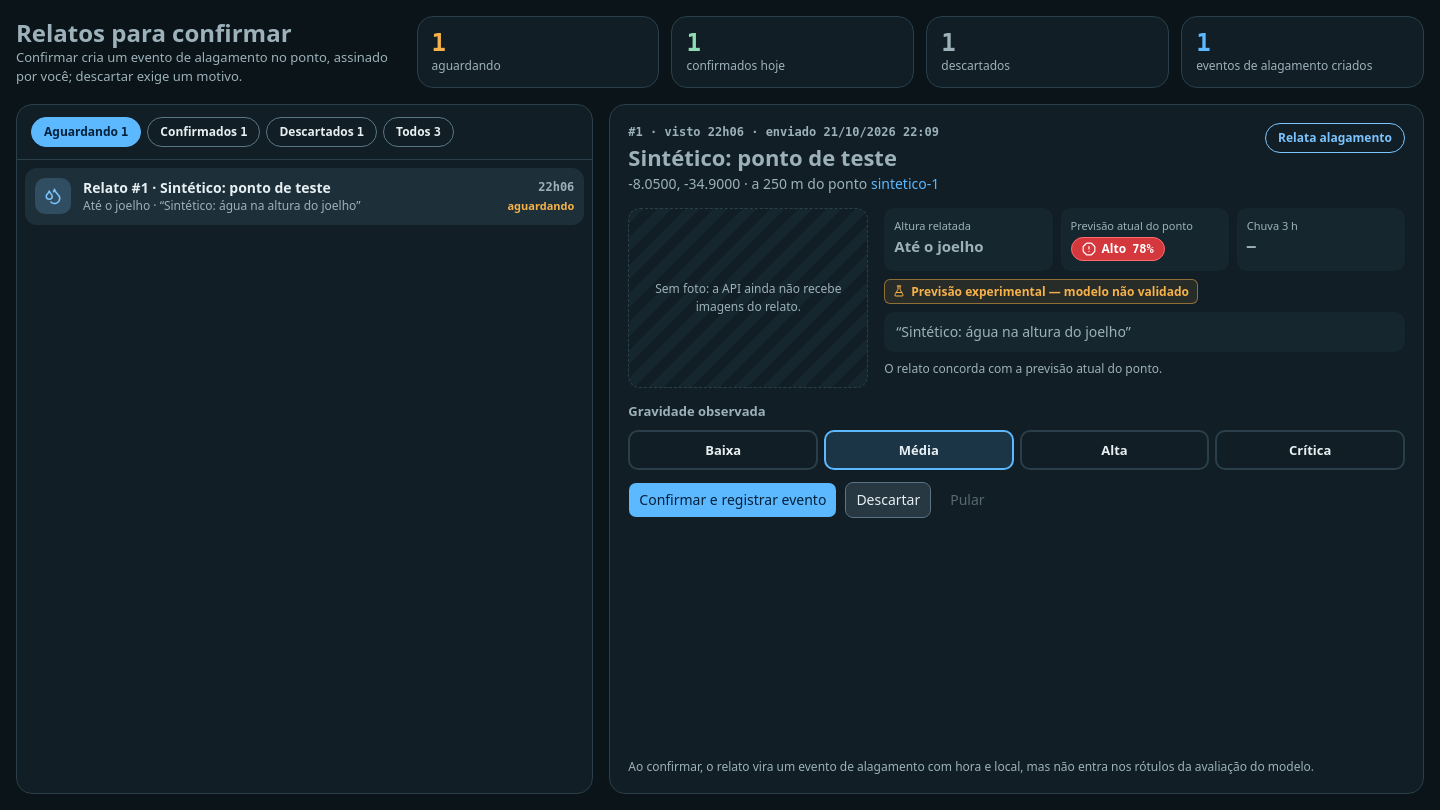
ReportsPage › confirmar: ponto sugerido e gravidade escolhida vão no PATCH; mostra aviso de sucesso
What coordinates should you click on to do the following:
click the radio button labelled "Alta"
I would click on:
 (1115, 450)
Its box is [1020,430,1209,470].
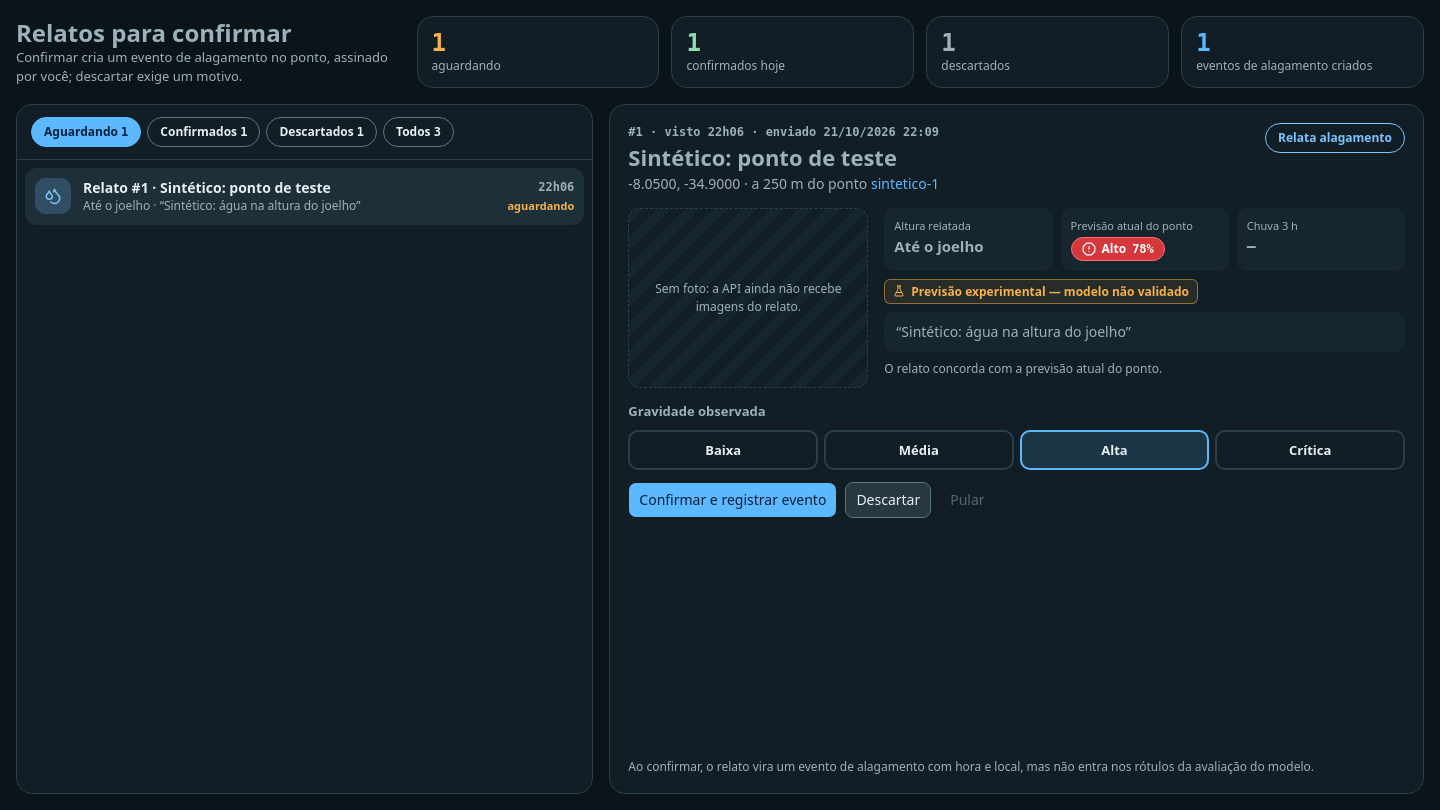
What coordinates should you click on to do the following:
click the button with aria-label "Confirmar relato 1"
I would click on:
 (733, 500)
Its box is [628,482,837,518].
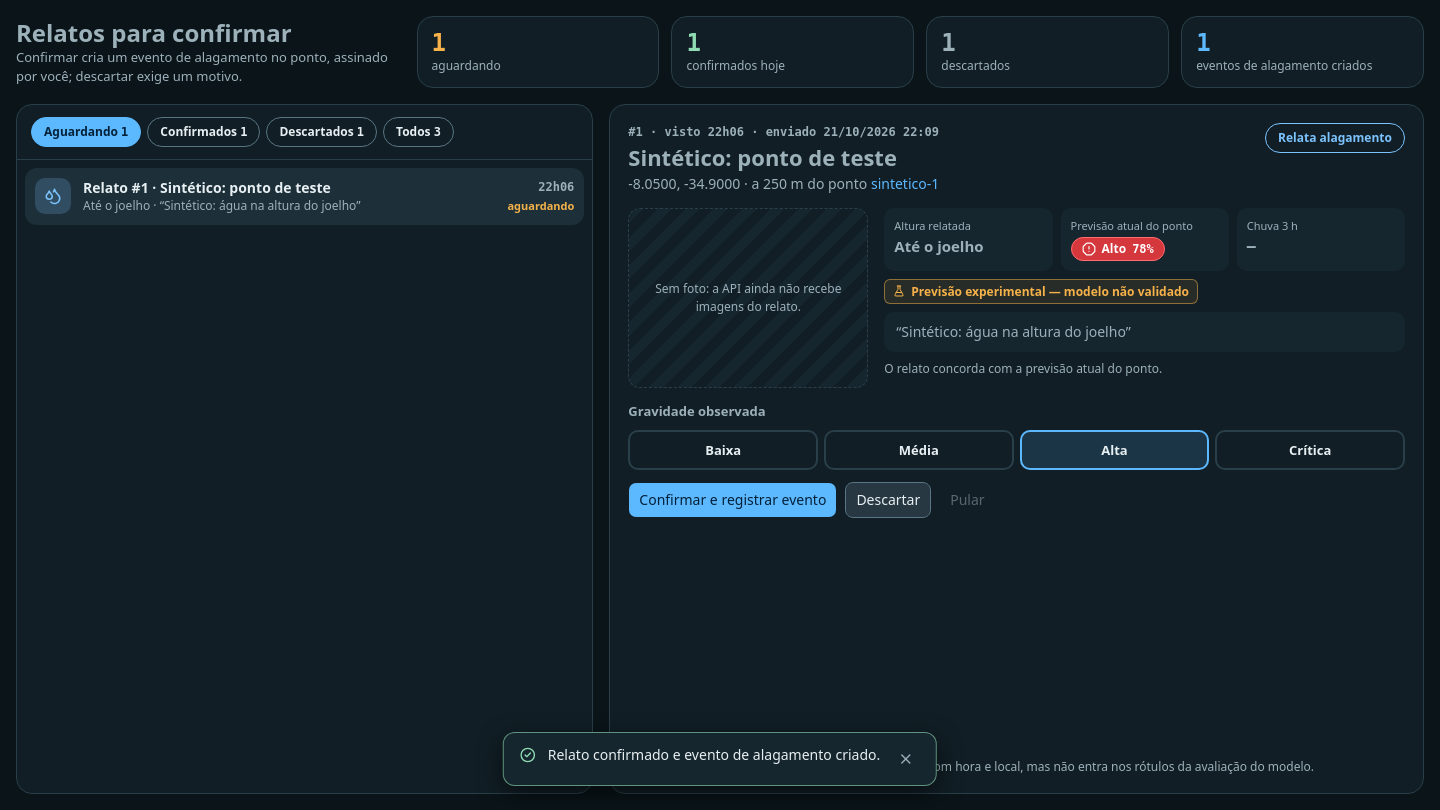
Expected: the text "Relato confirmado e evento de alagamento criado." is shown, [548,745,880,765]
